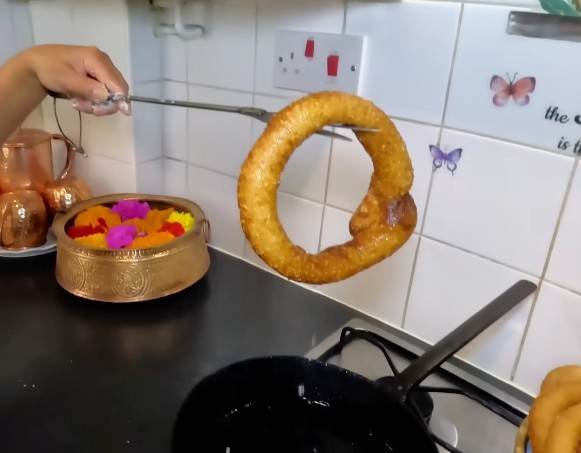sel_roti: (239, 91, 421, 285)
